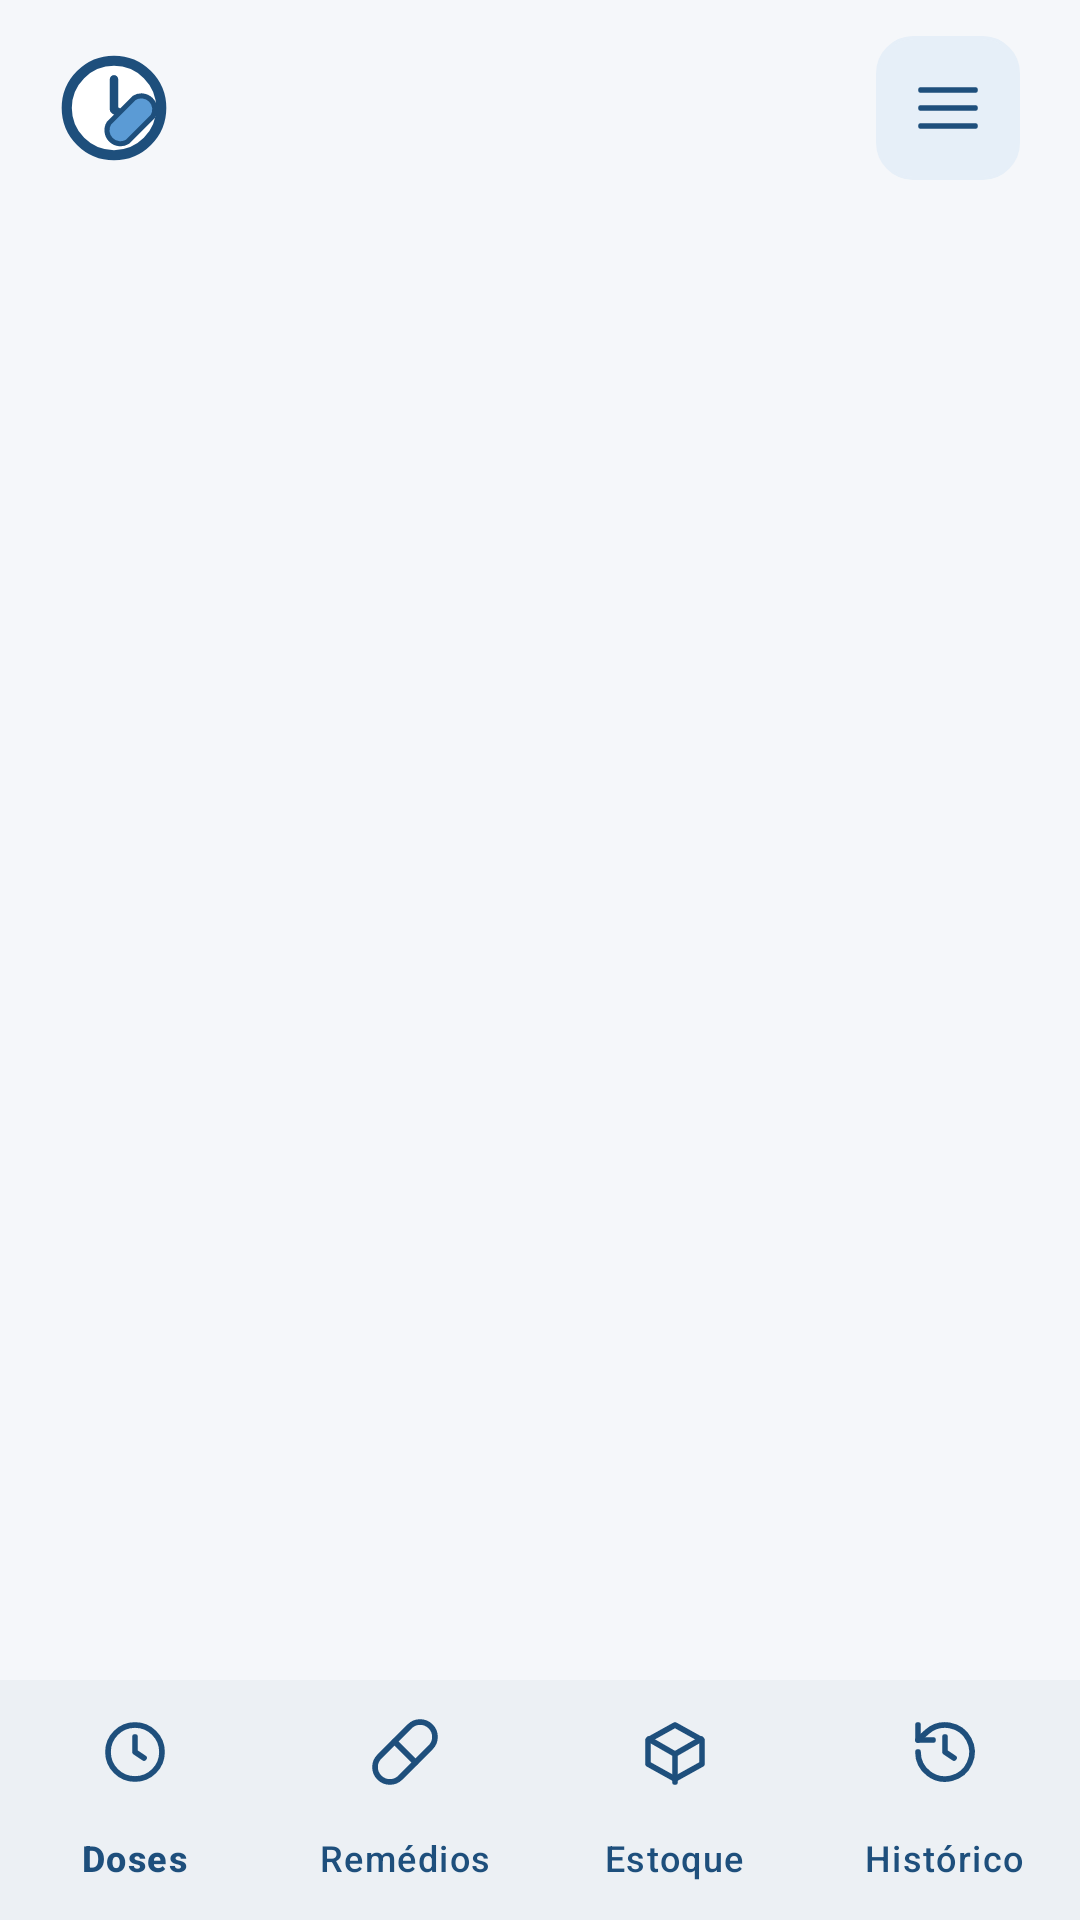

Icon bounding boxes for this 1080px×1920px phone screenshot, format [x1=x1, y1=y1, x2=x2, y2=y2]:
Abrir menu: [x1=876, y1=36, x2=1020, y2=180]
